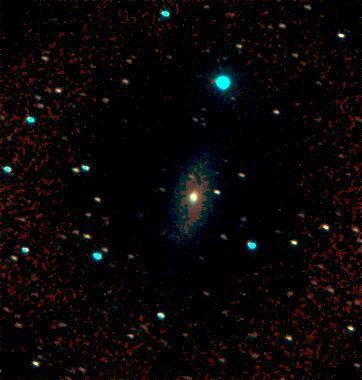star: (180, 164, 210, 194)
